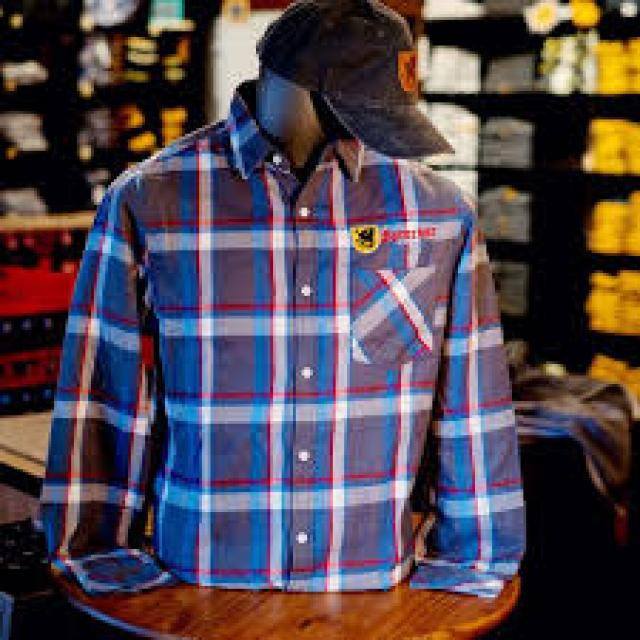plaid: (43, 122, 528, 607)
